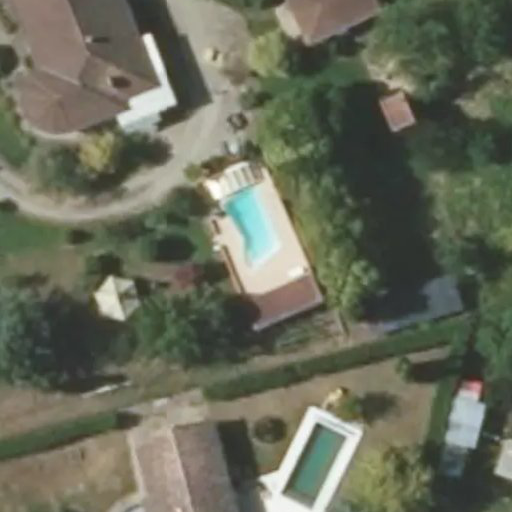pool: (219, 201, 292, 282)
